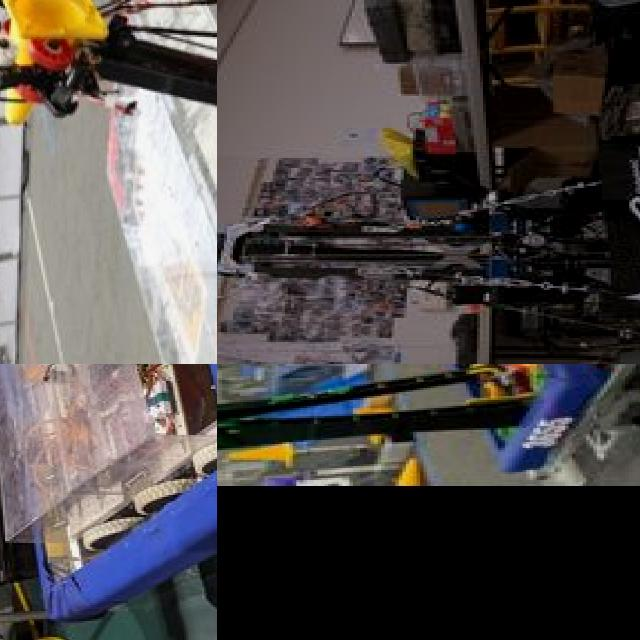FRC-Robots: (217, 111, 640, 348), (0, 0, 217, 307), (0, 364, 217, 640), (217, 364, 640, 465)
